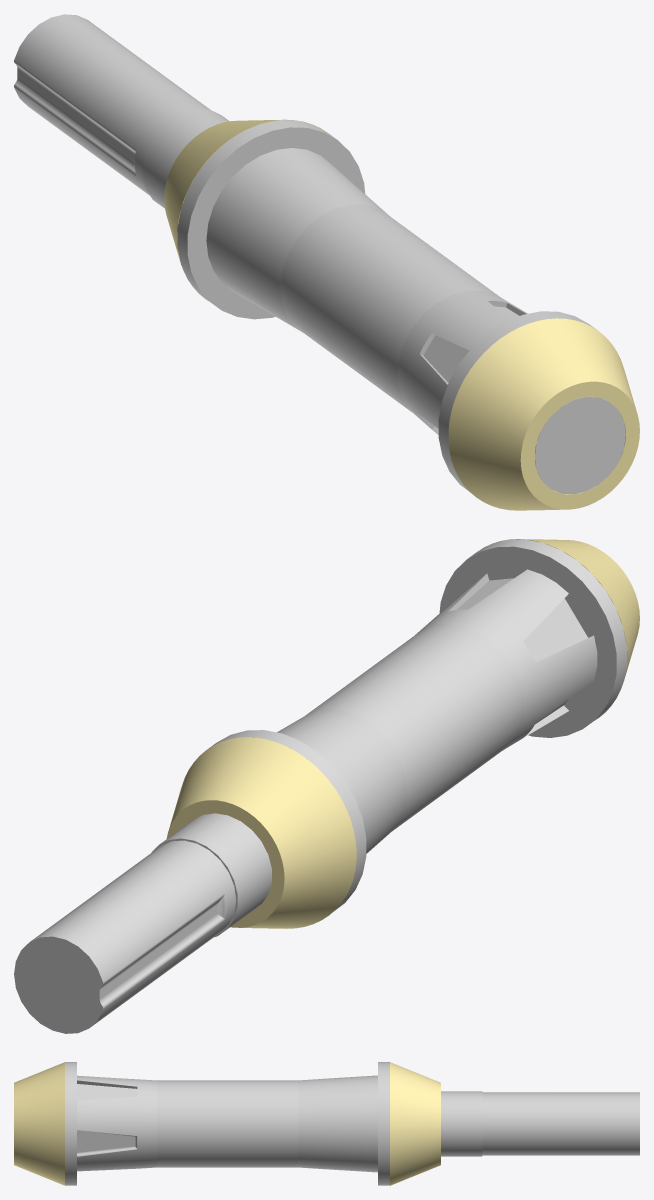
3 views of the same model, one above another, from view 1: azimuth 30°, elevation 25°; view 2: azimuth 150°, elevation 25°; view 3: azimuth 270°, elevation 25° (orthographic). The views are drawn at different scales.
Visible parts, largest first — view 1: Solid1 (×3); view 2: Solid1 (×3); view 3: Solid1 (×3).
Boxes of the visible parts, x1,y1,x2,y2 form: Solid1 (×3): [14, 14, 639, 510]; Solid1 (×3): [14, 539, 639, 1033]; Solid1 (×3): [14, 1062, 639, 1185].
Size of the model in its own units: 0.051 by 0.051 by 0.258.
